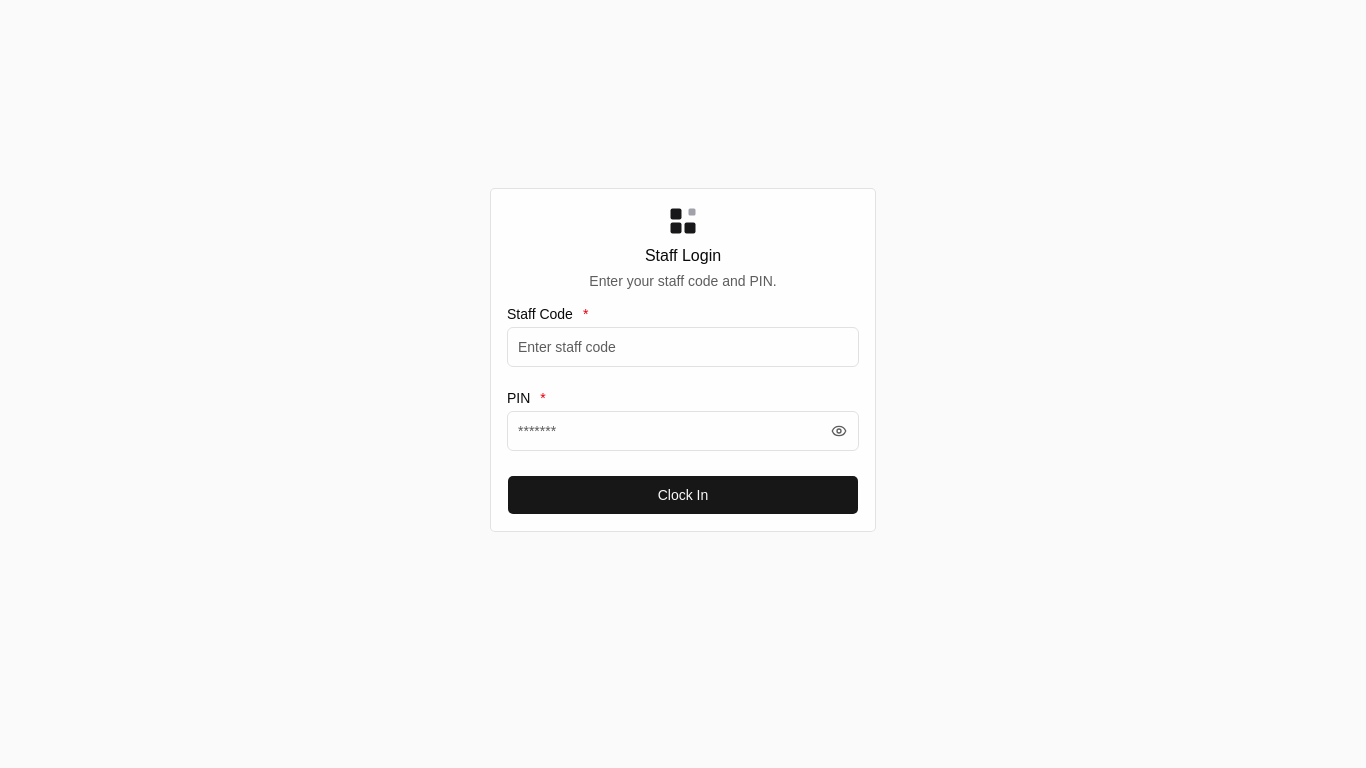
Test: Forced PIN change on login › opens blocking Change PIN dialog when must_change_pin is true and keeps user on auth boundary until completed
Type "STAFF02" into the field with placeholder "Enter staff code".
click(683, 347); type("STAFF02")  # box [508, 327, 858, 367]
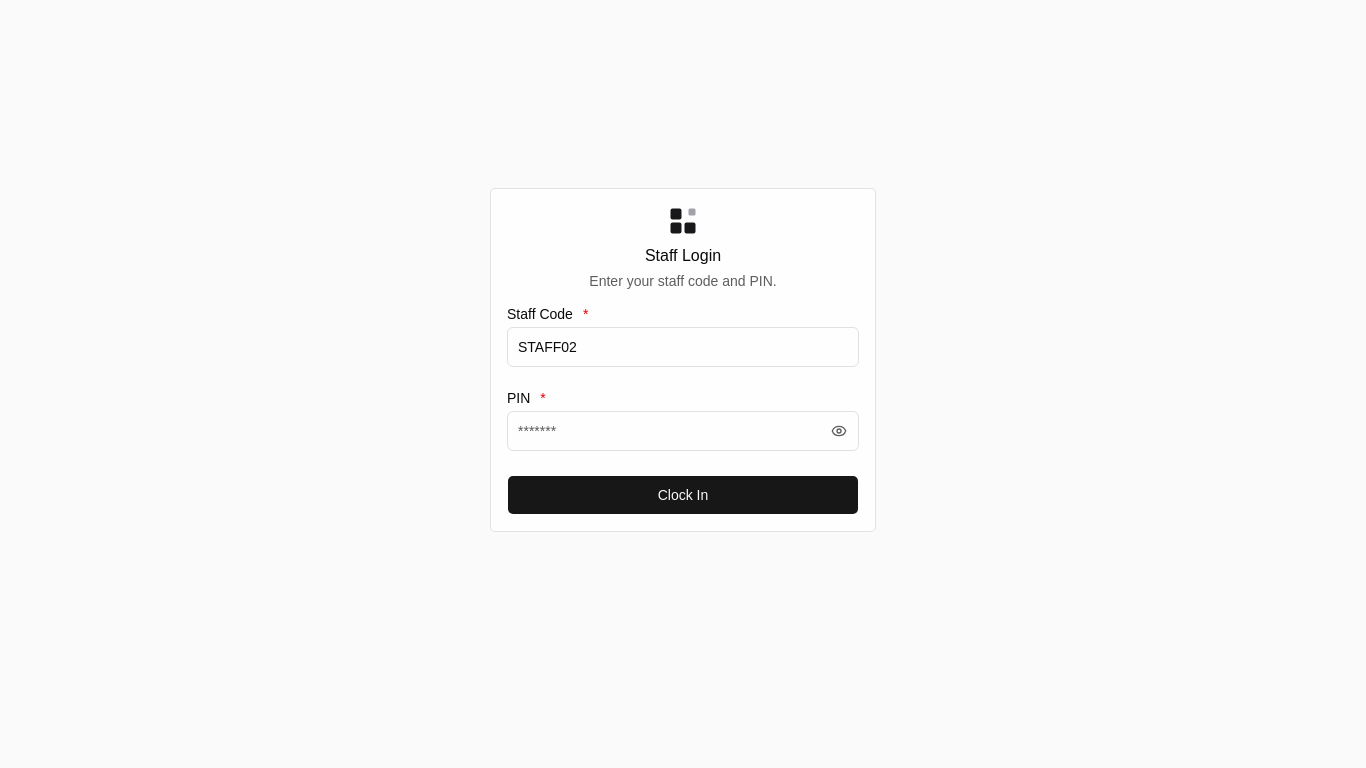
Type "123456" into the password field labelled "PIN".
click(665, 431); type("123456")  # box [508, 411, 823, 451]
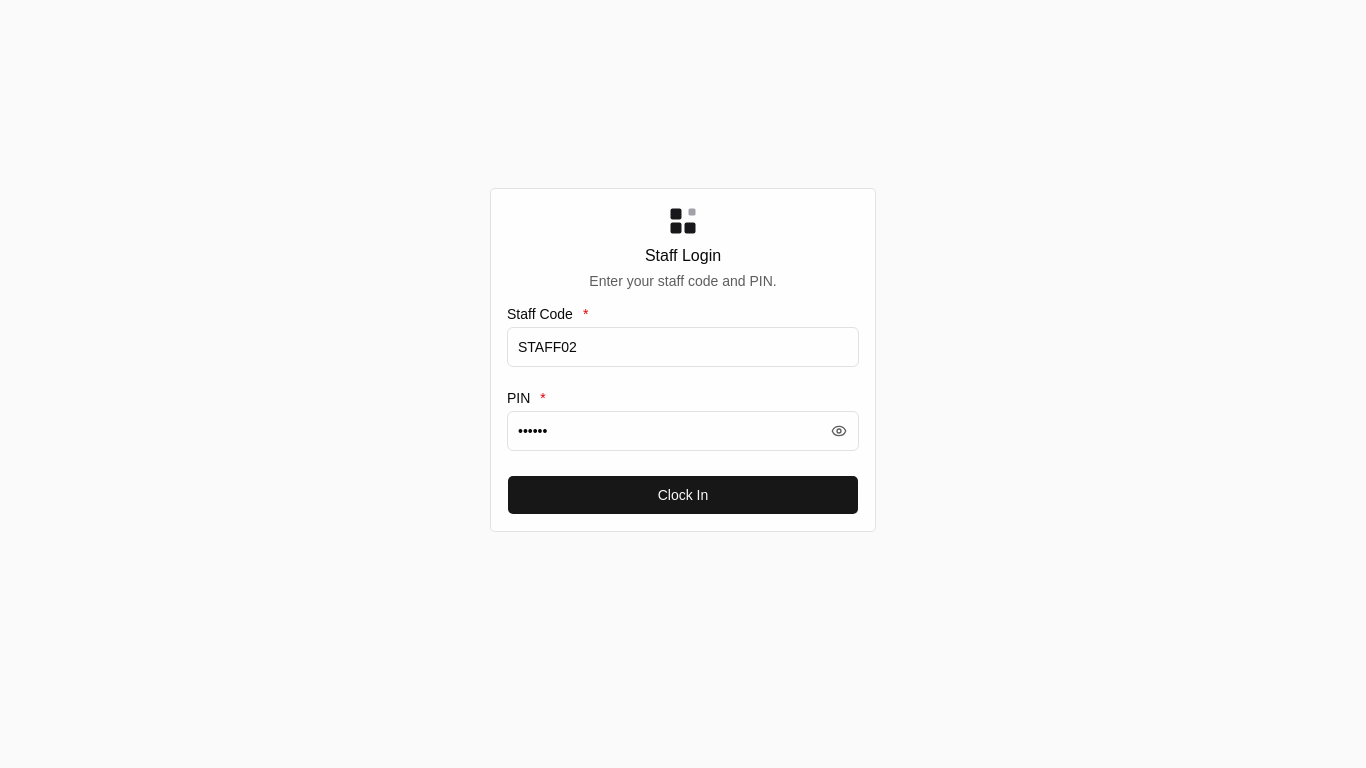
Click the button "Clock In".
click(683, 495)  # box [507, 475, 859, 515]
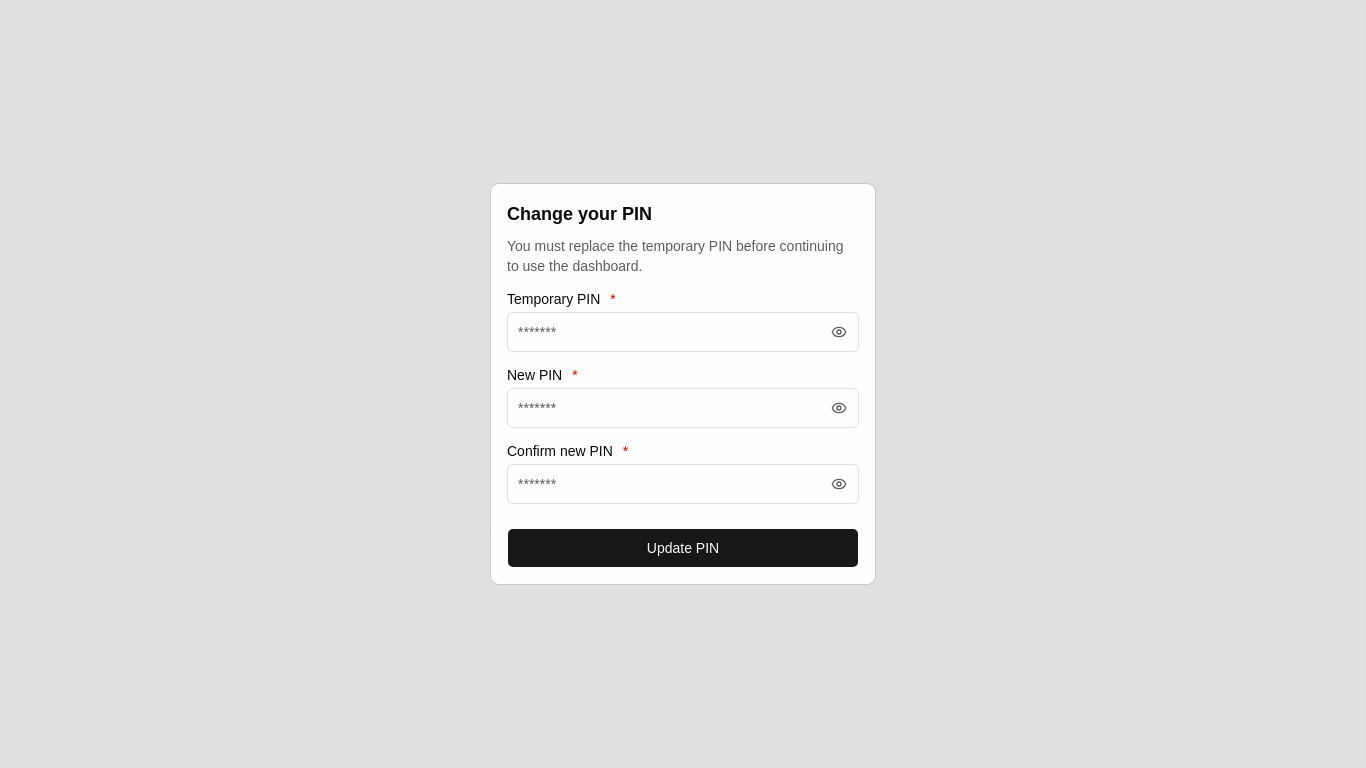
Expected: the dialog is shown, [491, 184, 875, 584]
Expected: the heading "Change your PIN" is shown, [507, 204, 652, 224]
Expected: the text "must replace the temporary PIN" is shown, [507, 238, 844, 274]
